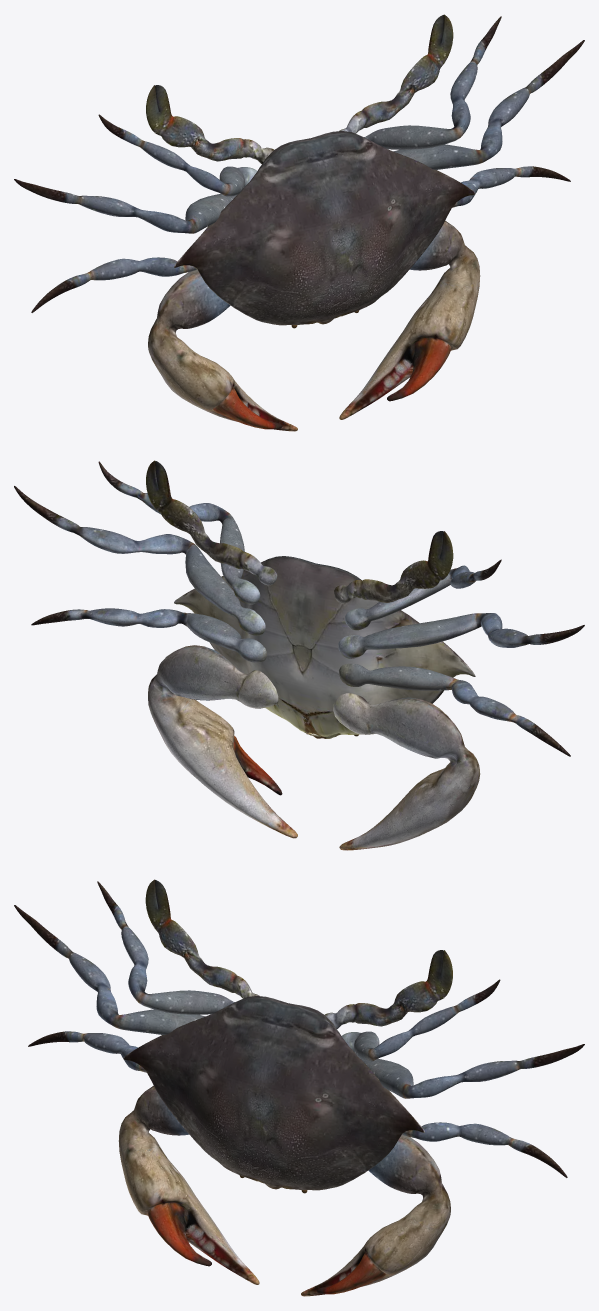
The model's file is 10012_crab_v2_iterations-1.obj.
The picture shows the model from 3 angles, top to bottom: view 1: azimuth 30°, elevation 25°; view 2: azimuth 150°, elevation 25°; view 3: azimuth 330°, elevation 25°; orthographic projection.
Parts seen in each view (by area): view 1: 10012_crab; view 2: 10012_crab; view 3: 10012_crab.
Boxes of the visible parts, bbox=[...] form: 10012_crab: bbox=[14, 14, 584, 431]; 10012_crab: bbox=[14, 460, 584, 850]; 10012_crab: bbox=[14, 879, 584, 1296].
Bounding box in the file's own units: 36.5 × 22.1 × 5.13.
Materials: 1 (1 with a texture image).
